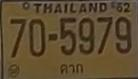0: (28, 18, 45, 56)
5: (59, 17, 75, 55)
7: (10, 18, 26, 57), (96, 16, 112, 53)
9: (78, 17, 94, 54), (115, 16, 131, 53)
TAK: (56, 61, 86, 75)
